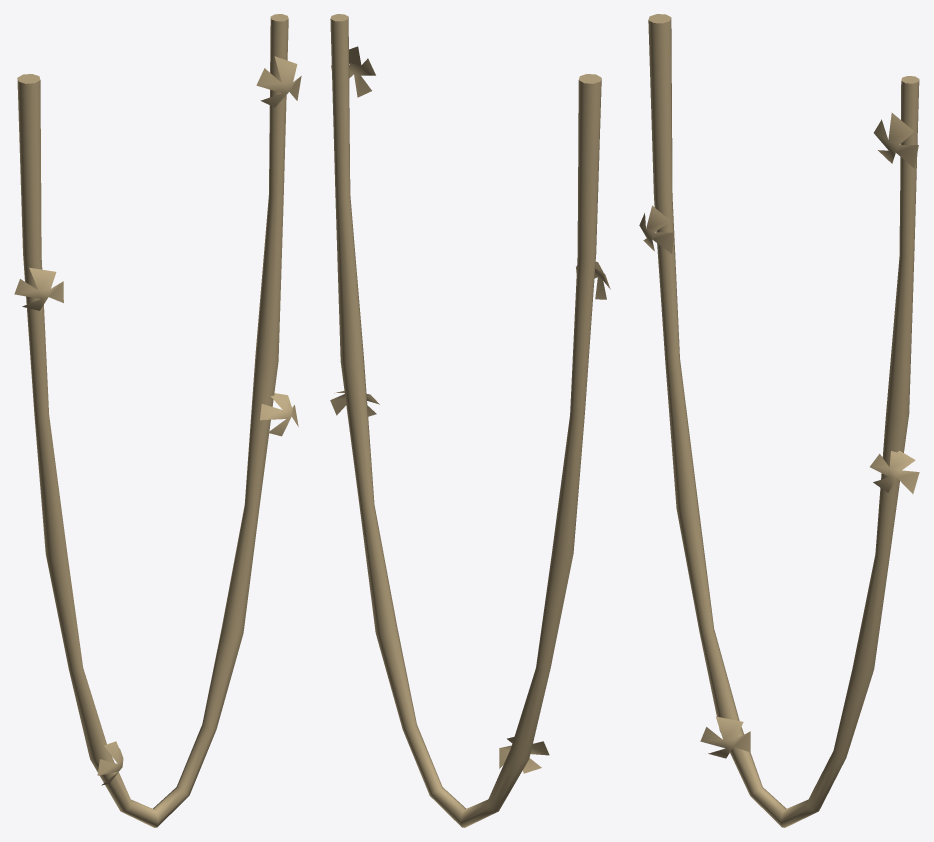
File: vine-01.fbx
3 views of the same model, side by side, from view 1: azimuth 30°, elevation 25°; view 2: azimuth 150°, elevation 25°; view 3: azimuth 330°, elevation 25° (orthographic).
Visible parts, largest first — view 1: vine-01; view 2: vine-01; view 3: vine-01.
Boxes of the visible parts, <box> form: vine-01: <box>14,14,301,827</box>; vine-01: <box>330,14,610,827</box>; vine-01: <box>639,14,919,827</box>.
Bounding box in the file's own units: 108 × 284 × 13.23.
